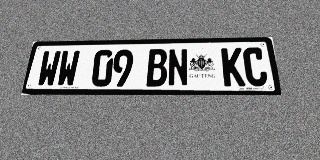0: (91, 50, 114, 87)
9: (111, 49, 134, 87)
B: (146, 49, 167, 87)
C: (242, 47, 269, 86)
K: (221, 48, 246, 86)
N: (168, 49, 189, 86)
W: (36, 51, 61, 87), (56, 50, 80, 87)
